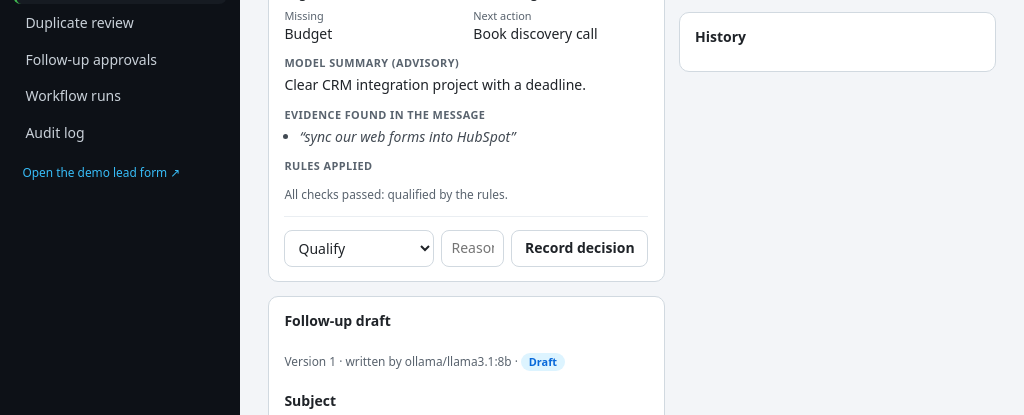
Test case: leads › records an override with a reason
The image size is (1024, 415).
(page scrolled)
Select "Needs review" in the dropdown named "New decision". click: (359,248)
box: [284, 230, 434, 267]
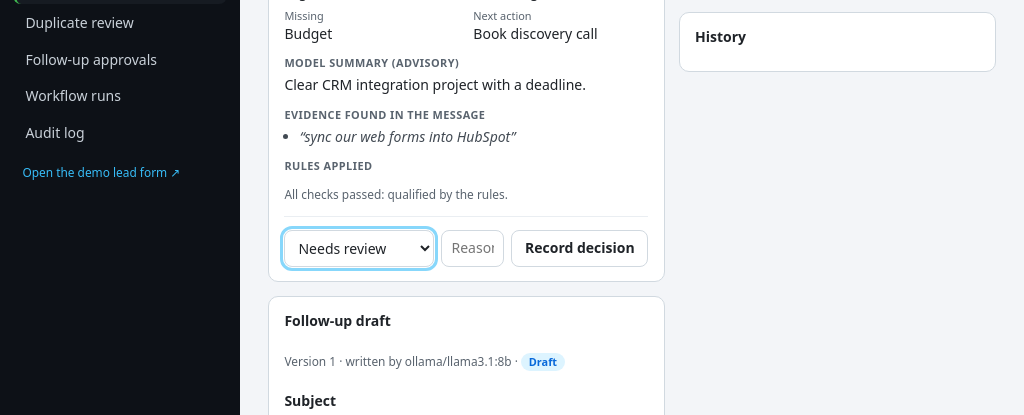
Type "Budget unclear" into the field labelled "Reason". click: (473,248)
box: [441, 230, 504, 267]
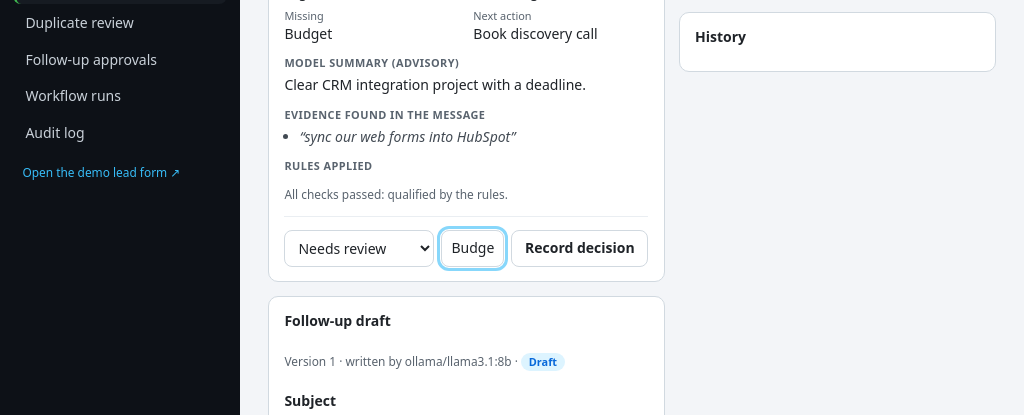
Click the button "Record decision". click: (580,248)
box: [511, 230, 648, 267]
(page scrolled)
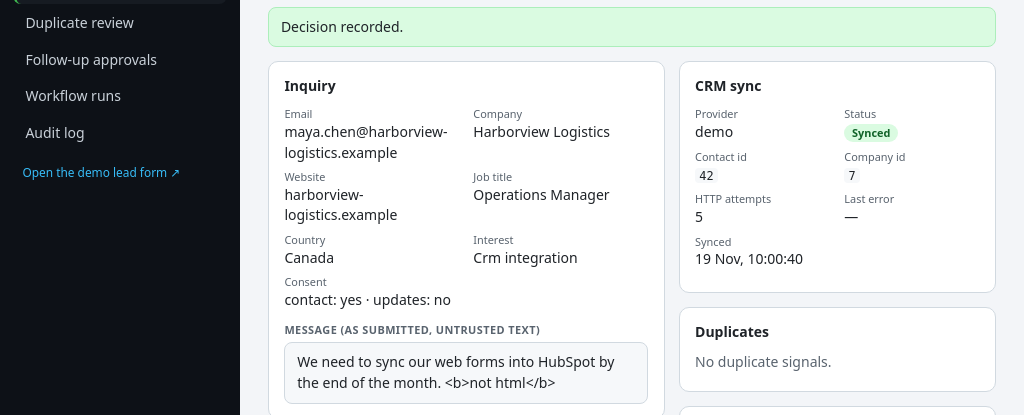
Expected: the text "Decision recorded." is shown, [268, 7, 996, 47]
